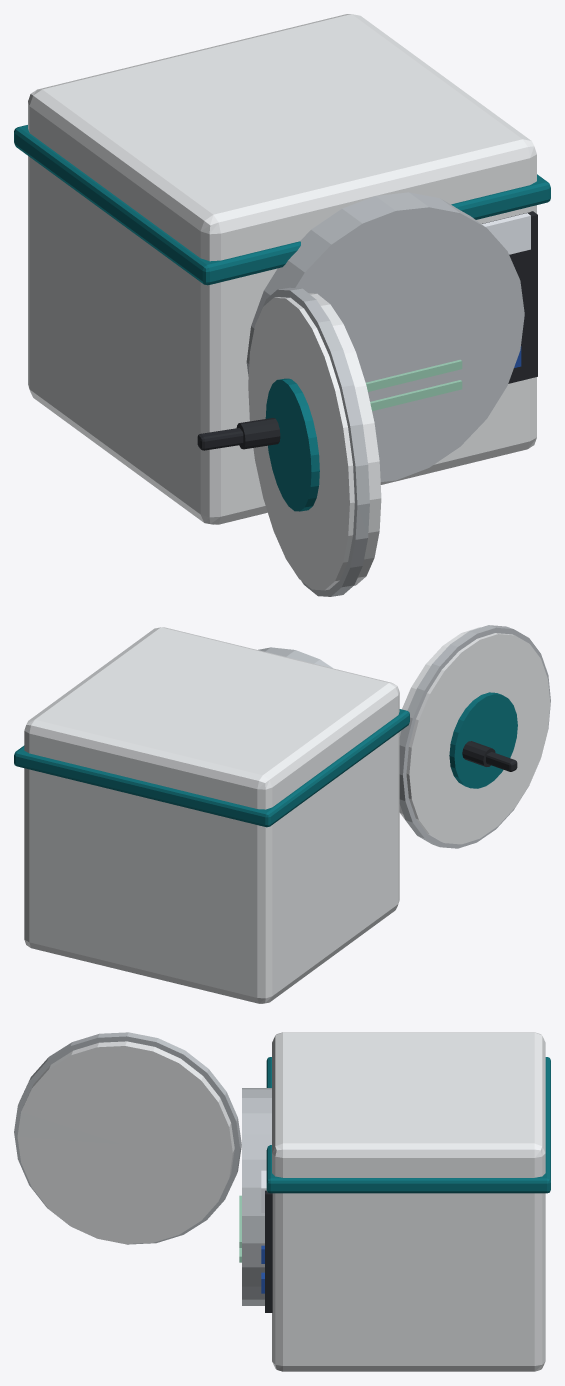
Rendered from autoclave.obj.
3 views of the same model, one above another, from view 1: azimuth 30°, elevation 25°; view 2: azimuth 150°, elevation 25°; view 3: azimuth 270°, elevation 25° (orthographic). The views are drawn at different scales.
Visible parts, largest first — view 1: pieza_11, pieza_6, pieza_18, pieza_12, pieza_19, pieza_20, pieza_10, pieza_13, pieza_21, pieza_17, pieza_16, pieza_22; view 2: pieza_11, pieza_18, pieza_12, pieza_20, pieza_19, pieza_21, pieza_6; view 3: pieza_11, pieza_18, pieza_12, pieza_6, pieza_19, pieza_10.
Boxes of the visible parts, bbox=[...] form: pieza_11: bbox=[28, 14, 536, 524]; pieza_6: bbox=[246, 192, 524, 481]; pieza_18: bbox=[248, 293, 381, 590]; pieza_12: bbox=[14, 125, 550, 285]; pieza_19: bbox=[258, 287, 369, 596]; pieza_20: bbox=[265, 378, 319, 511]; pieza_10: bbox=[482, 211, 537, 383]; pieza_13: bbox=[482, 213, 530, 254]; pieza_21: bbox=[236, 418, 280, 449]; pieza_17: bbox=[366, 359, 462, 391]; pieza_16: bbox=[370, 380, 462, 411]; pieza_22: bbox=[197, 428, 243, 450]; pieza_11: bbox=[24, 627, 399, 1003]; pieza_18: bbox=[399, 627, 550, 844]; pieza_12: bbox=[14, 709, 409, 827]; pieza_20: bbox=[449, 692, 517, 788]; pieza_19: bbox=[399, 625, 550, 848]; pieza_21: bbox=[462, 741, 495, 766]; pieza_6: bbox=[258, 647, 332, 668]; pieza_11: bbox=[272, 1032, 545, 1371]; pieza_18: bbox=[17, 1041, 234, 1244]; pieza_12: bbox=[266, 1057, 550, 1193]; pieza_6: bbox=[242, 1088, 271, 1305]; pieza_19: bbox=[14, 1032, 241, 1244]; pieza_10: bbox=[265, 1190, 272, 1312].
Size of the model in its own units: 0.6545 by 0.46 by 0.9821.
